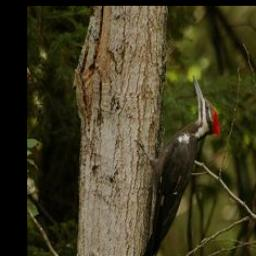Woodpecker: (130, 74, 221, 256)
